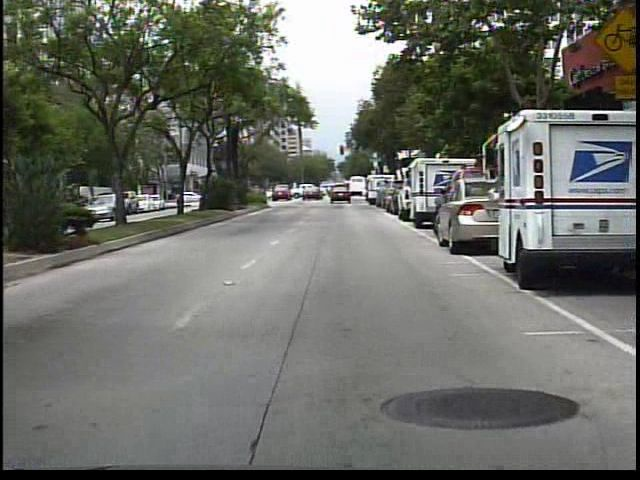person: (336, 183, 349, 203)
